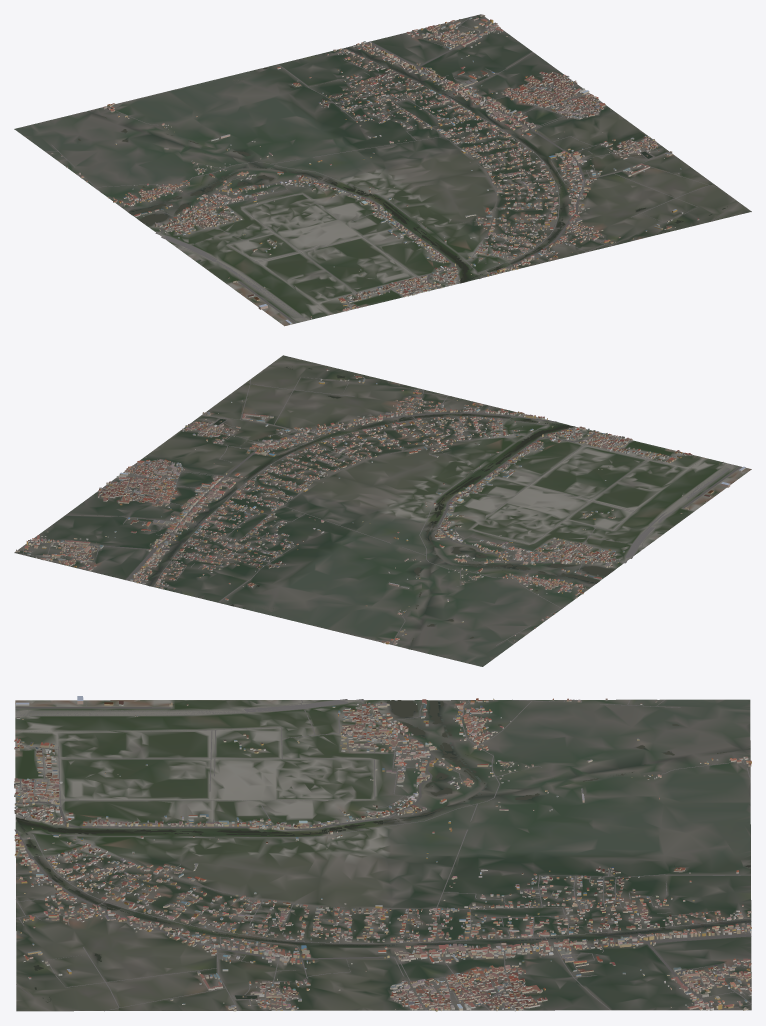
3 renders of one model, top to bottom at view 1: azimuth 30°, elevation 25°; view 2: azimuth 150°, elevation 25°; view 3: azimuth 270°, elevation 25°, orthographic. The views are drawn at different scales.
Visible parts, largest first — view 1: ground, buildings, roads, water; view 2: ground, buildings, roads, water; view 3: ground, buildings, roads, water.
Part boxes in pixels (<box>): ground: <box>14,14,751,326</box>; buildings: <box>51,14,699,324</box>; roads: <box>45,16,739,323</box>; water: <box>78,47,727,283</box>; ground: <box>14,355,751,666</box>; buildings: <box>15,369,745,644</box>; roads: <box>22,364,741,645</box>; water: <box>149,367,613,641</box>; ground: <box>15,699,751,1011</box>; buildings: <box>14,696,751,1011</box>; roads: <box>14,699,751,1011</box>; water: <box>16,700,751,1002</box>.
Bounding box in the file's own units: 2823 × 28.61 × 2814.
